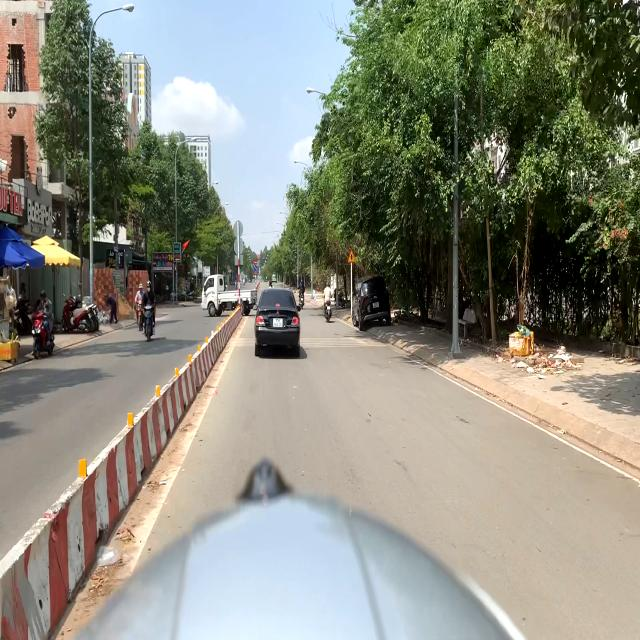P.102: (254, 259, 257, 265)
R.302a: (254, 266, 257, 270)
W.207a: (346, 249, 356, 264)
